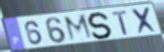6: (44, 16, 68, 45), (24, 20, 44, 46)
M: (62, 13, 95, 43)
S: (87, 11, 114, 40)
T: (111, 10, 130, 36)
X: (130, 5, 159, 36)
